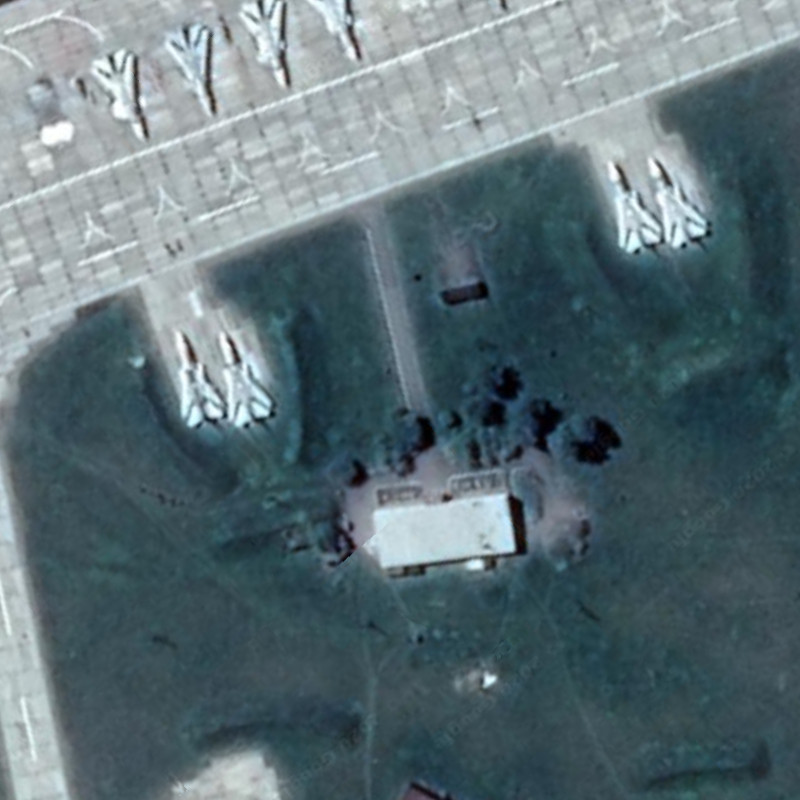A20: (593, 155, 667, 258), (648, 149, 715, 255), (212, 333, 282, 434), (168, 327, 228, 434), (88, 48, 154, 145), (235, 2, 306, 89), (163, 22, 226, 119), (308, 1, 376, 68)
